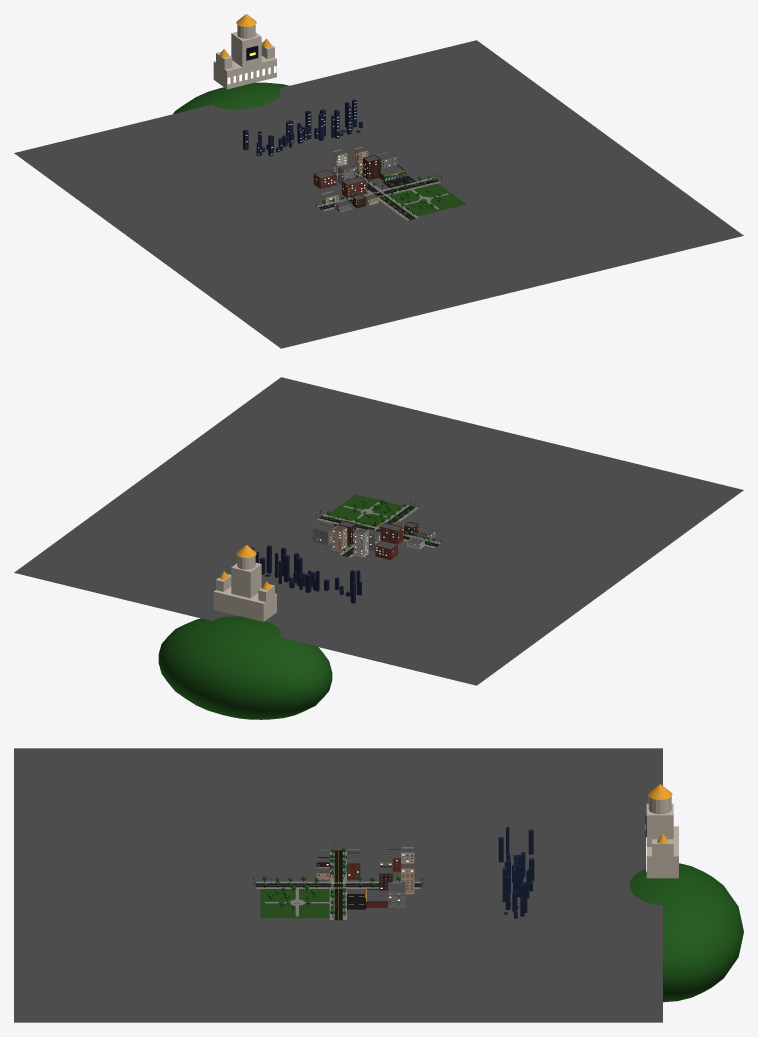
File: DST_REAL_StartingDistrict.glb
3 renders of one model, top to bottom at view 1: azimuth 30°, elevation 25°; view 2: azimuth 150°, elevation 25°; view 3: azimuth 270°, elevation 25°, orthographic. The views are drawn at different scales.
Visible parts, largest first — view 1: KIT_Ground_Outer, ENV_REAL_ClubExterior_FarLOD, ENV_REAL_SkylineBackdrop, KIT_Lot_WS, KIT_Lot_ES, KIT_Lot_WN; view 2: KIT_Ground_Outer, ENV_REAL_ClubExterior_FarLOD, ENV_REAL_SkylineBackdrop, KIT_Lot_ES, KIT_Lot_WS, KIT_Lot_WN; view 3: KIT_Ground_Outer, ENV_REAL_ClubExterior_FarLOD, ENV_REAL_SkylineBackdrop, KIT_Lot_ES, KIT_Lot_WS, KIT_Lot_EN, KIT_Lot_WN.
Boxes of the visible parts, x1,y1,x2,y2 form: KIT_Ground_Outer: (14,40,743,348); ENV_REAL_ClubExterior_FarLOD: (173,14,289,114); ENV_REAL_SkylineBackdrop: (243,99,362,156); KIT_Lot_WS: (327,200,404,231); KIT_Lot_ES: (389,183,466,216); KIT_Lot_WN: (291,178,368,204); KIT_Ground_Outer: (14,377,743,685); ENV_REAL_ClubExterior_FarLOD: (158,545,332,719); ENV_REAL_SkylineBackdrop: (251,545,361,603); KIT_Lot_ES: (327,494,403,526); KIT_Lot_WS: (400,509,466,541); KIT_Lot_WN: (353,537,430,568); KIT_Ground_Outer: (14,748,662,1022); ENV_REAL_ClubExterior_FarLOD: (630,784,743,1002); ENV_REAL_SkylineBackdrop: (498,827,534,918); KIT_Lot_ES: (260,889,329,918); KIT_Lot_WS: (260,852,329,881); KIT_Lot_EN: (347,889,416,918); KIT_Lot_WN: (347,852,416,881).
Size of the model in its own units: 600 by 202 by 675.
